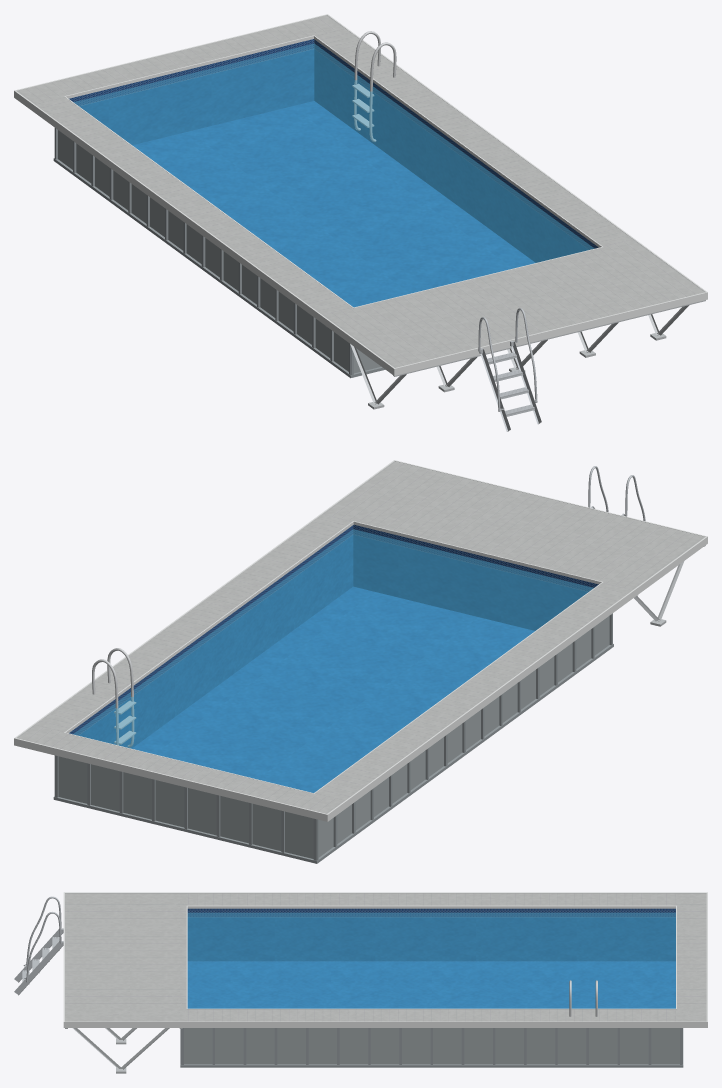
Rendered from kayak-pool-16x32-gray-end-ag-nofence.c9409a7948.glb.
3 renders of one model, top to bottom at view 1: azimuth 30°, elevation 25°; view 2: azimuth 150°, elevation 25°; view 3: azimuth 270°, elevation 25°, orthographic. The views are drawn at different scales.
Visible parts, largest first — view 1: water, deck, liner_floor, liner_wall, fascia, wall, upright, stud, ladder, steel; view 2: water, deck, liner_floor, liner_wall, wall, fascia, upright, steel; view 3: water, deck, liner_wall, liner_floor, wall, fascia, upright, ladder, stud.
Boxes of the visible parts, x1,y1,x2,y2 form: water: (74,43,593,307); deck: (17,15,705,367); liner_floor: (133,101,535,307); liner_wall: (69,39,598,262); fascia: (14,14,707,375); wall: (58,130,380,373); upright: (53,128,385,378); stud: (325,300,705,409); ladder: (478,308,541,431); steel: (352,31,396,141); water: (73,529,593,792); deck: (16,461,704,813); liner_floor: (132,586,534,792); liner_wall: (69,524,598,748); wall: (58,616,609,858); fascia: (14,460,707,821); upright: (53,613,613,863); steel: (92,648,136,747); water: (187,912,675,1008); deck: (65,893,706,1021); liner_wall: (187,908,675,961); liner_floor: (187,961,675,1008); wall: (184,1028,679,1064); fascia: (63,892,707,1027); upright: (180,1028,683,1067); ladder: (14,896,63,995); stud: (65,1028,182,1073).
Bounding box in the file's own units: 6.1 × 1.9 × 13.79.
10 materials, 3 textured.
